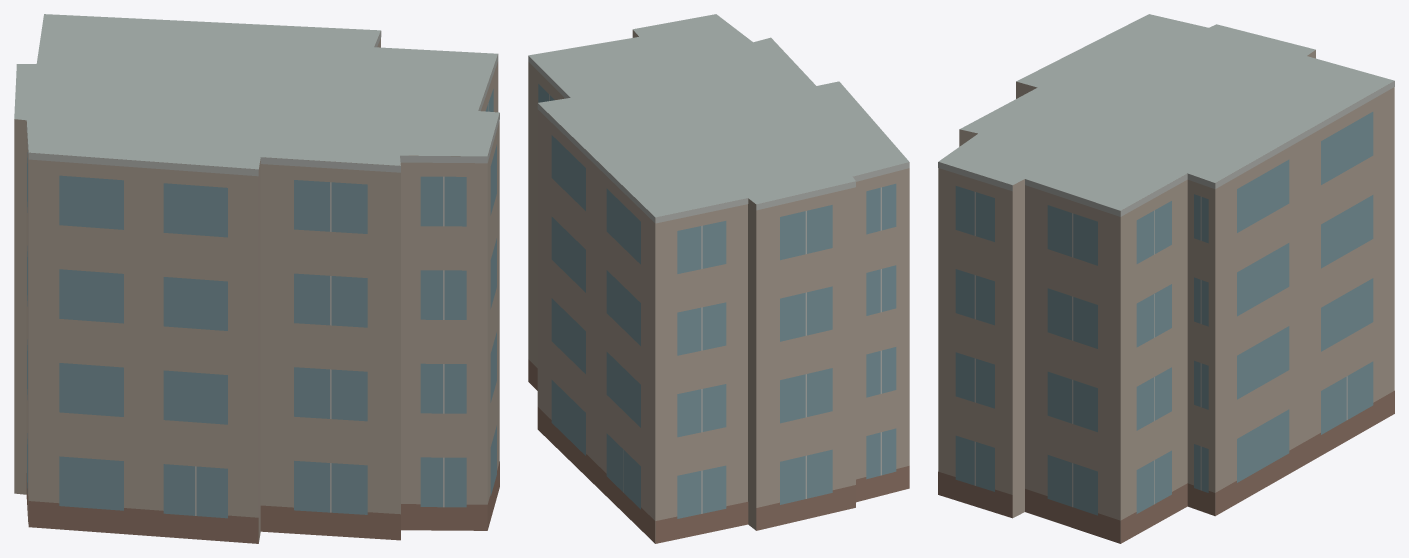
The model's file is survey-upis-32585117.glb.
3 renders of one model, left to right at view 1: azimuth 30°, elevation 25°; view 2: azimuth 150°, elevation 25°; view 3: azimuth 270°, elevation 25°, orthographic. The views are drawn at different scales.
Visible parts, largest first — view 1: survey-upis-32585117.tmp; view 2: survey-upis-32585117.tmp; view 3: survey-upis-32585117.tmp.
Part boxes in pixels (bbox=[...]): survey-upis-32585117.tmp: bbox=[14, 14, 499, 543]; survey-upis-32585117.tmp: bbox=[528, 14, 909, 543]; survey-upis-32585117.tmp: bbox=[938, 14, 1394, 543].
Bounding box in the file's own units: 16.74 × 13.2 × 16.41.
